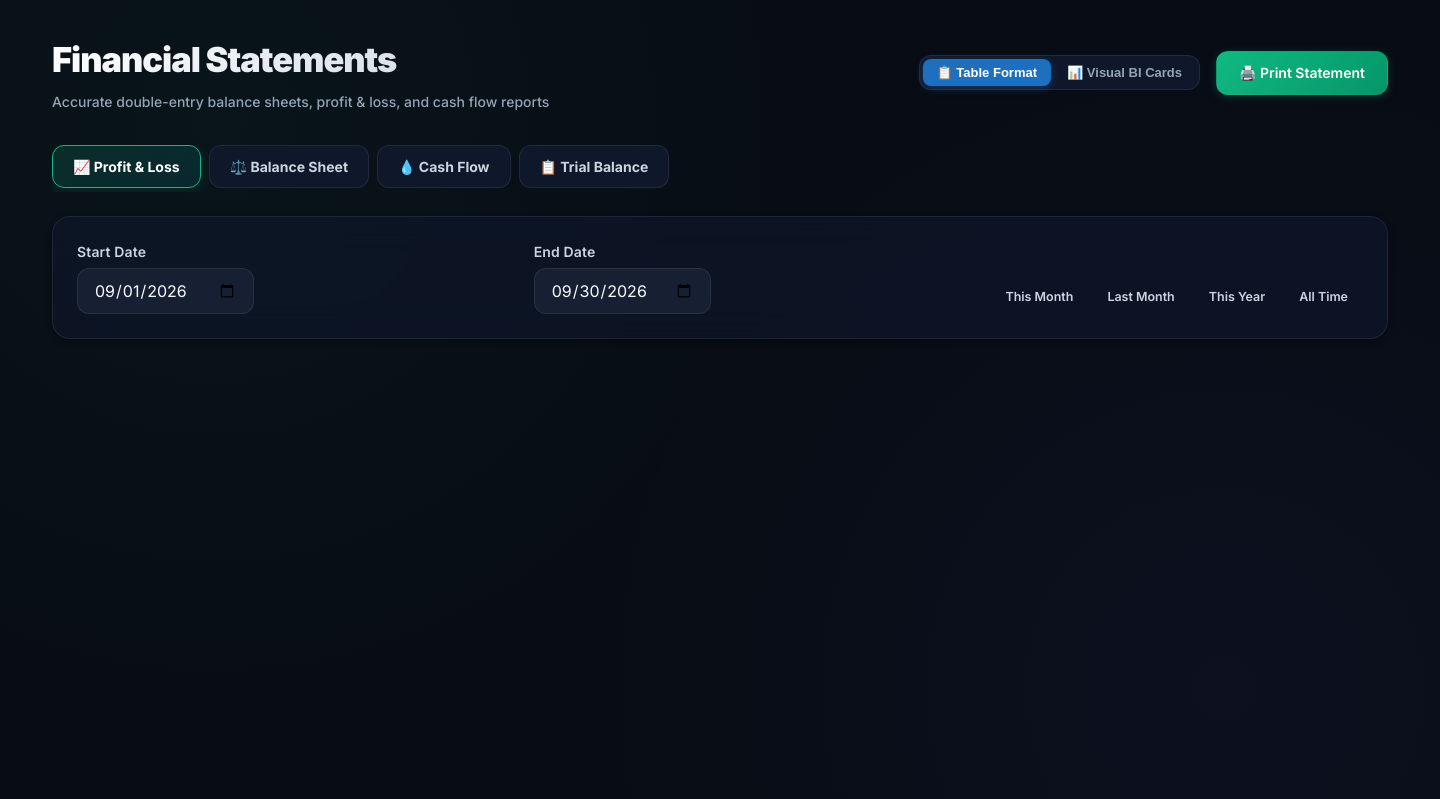
Scenario: UI: ReportsPage Financial Statements & Print Table › switches to Balance Sheet tab and renders formal balance sheet table
What coordinates should you click on to do the following:
click the button "⚖️ Balance Sheet"
I would click on:
 (289, 167)
Its box is [209, 145, 369, 188].
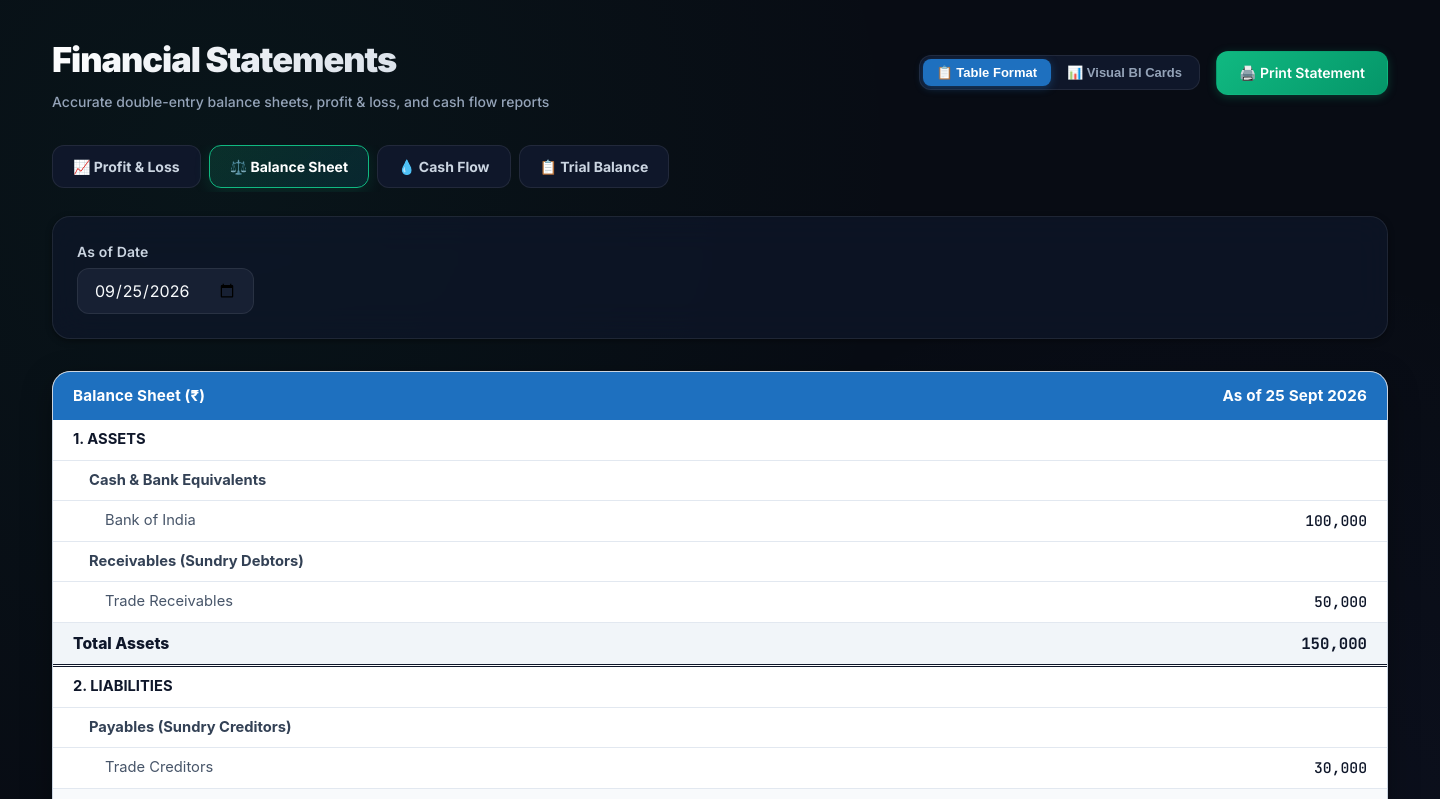
Check: the column heading "Balance Sheet (₹)" is shown, box [53, 372, 1147, 420]
Check: the text "1. ASSETS" is shown, box [53, 420, 1147, 460]
Check: the text "Total Assets" is shown, box [53, 622, 1147, 666]
